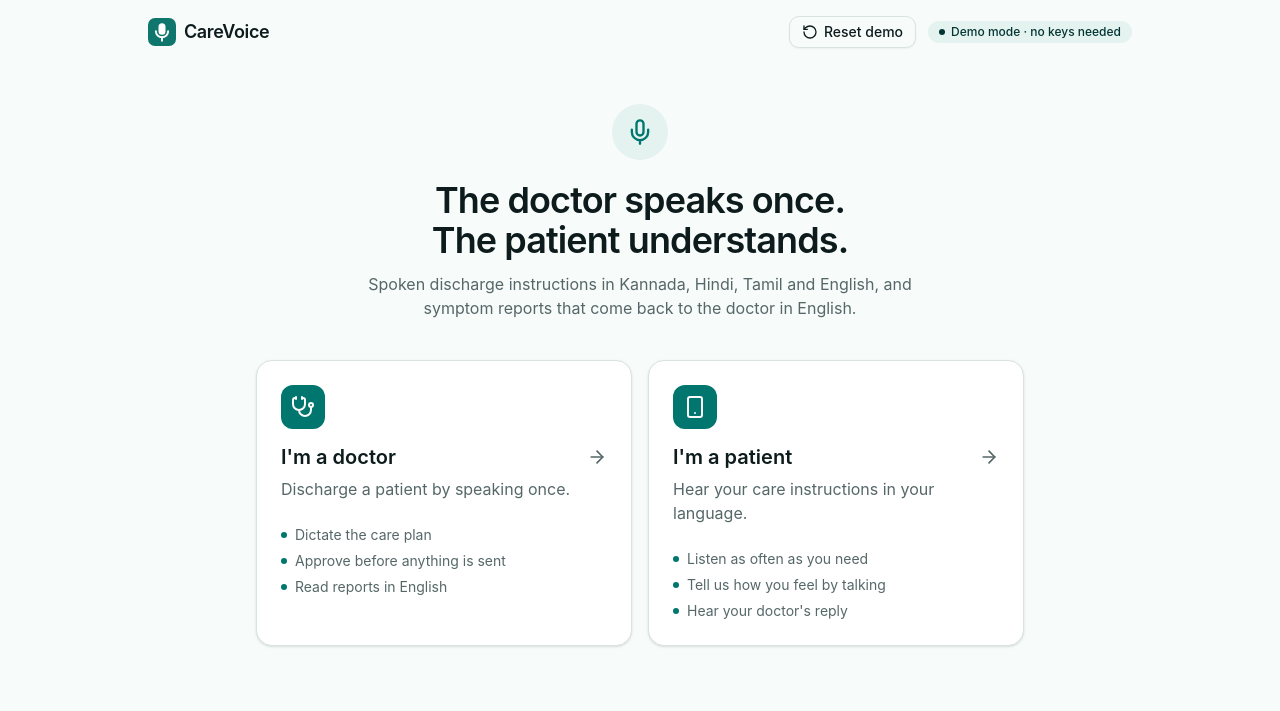
says so when the server has demo endpoints turned off
Click the button "Reset demo" at (852,32), box [789,16,916,48]
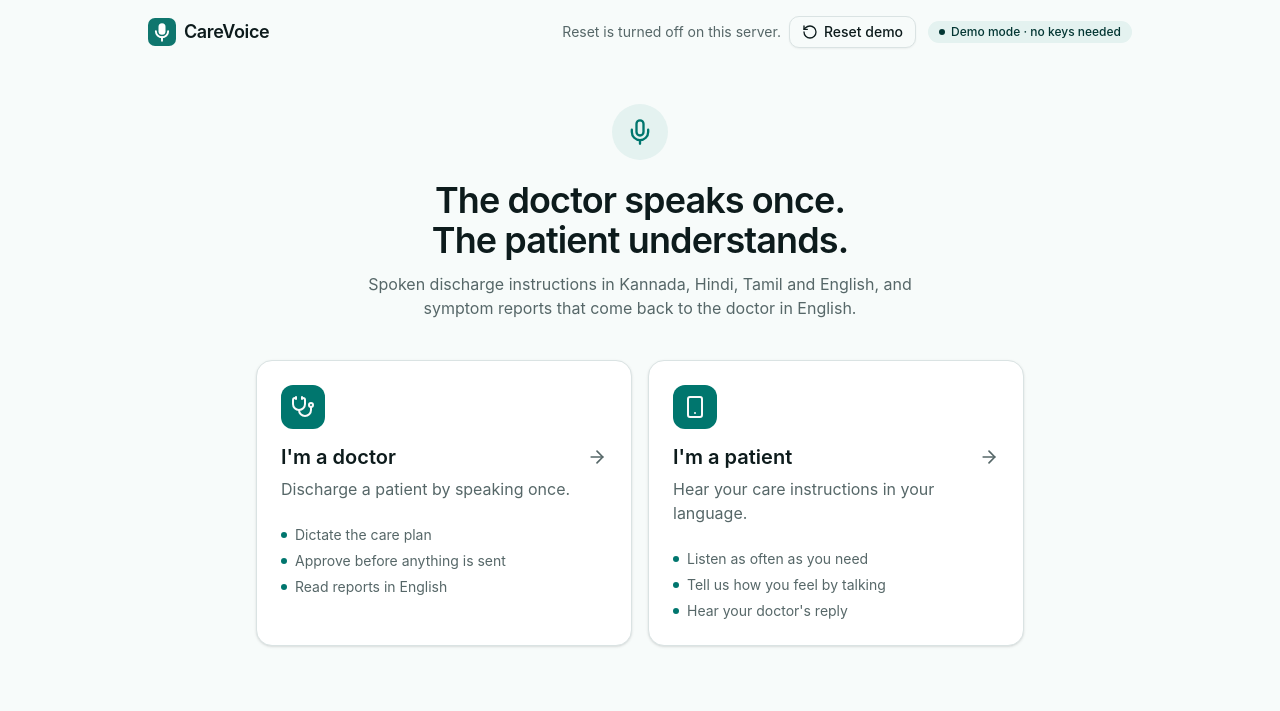
Expected: the text "Reset is turned off on this server." is shown, [562,22,781,42]
